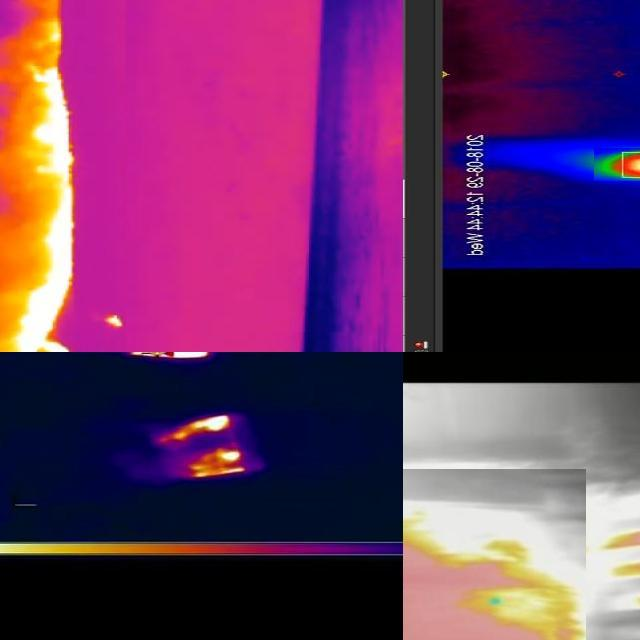fire: (1, 1, 126, 353), (404, 470, 586, 640), (186, 448, 251, 480), (164, 417, 234, 442), (594, 149, 640, 182)
